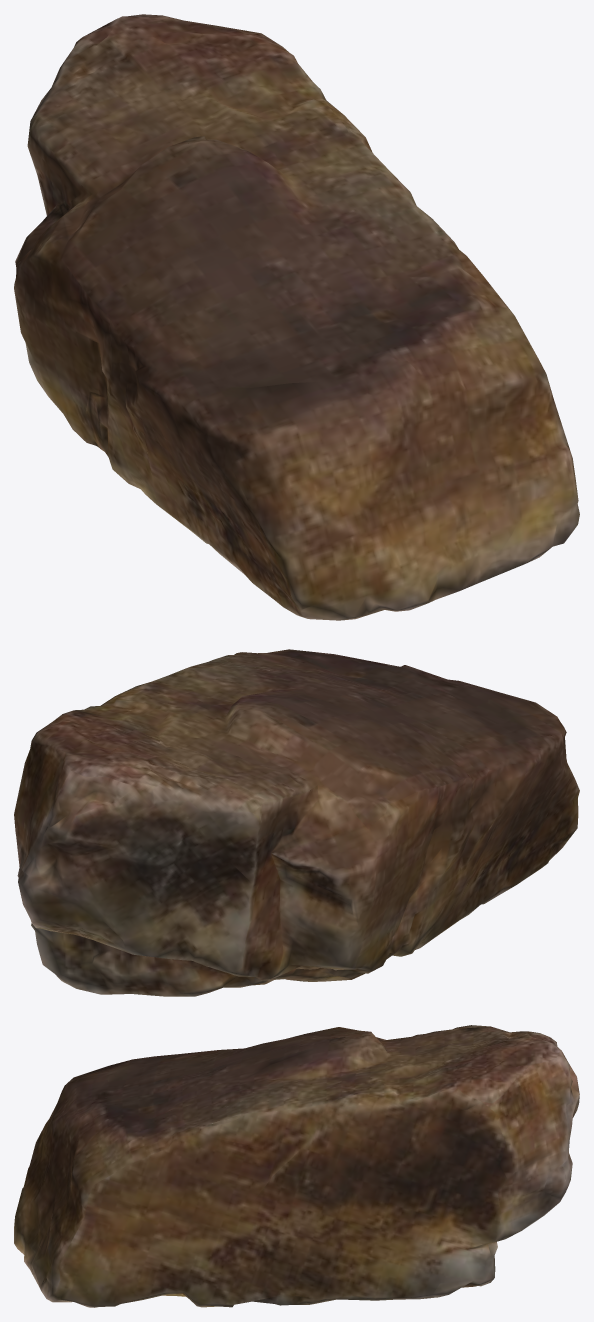
The model's file is rock.glb.
3 renders of one model, top to bottom at view 1: azimuth 30°, elevation 25°; view 2: azimuth 150°, elevation 25°; view 3: azimuth 270°, elevation 25°, orthographic. The views are drawn at different scales.
Visible parts, largest first — view 1: rock_07; view 2: rock_07; view 3: rock_07.
Boxes of the visible parts, x1=… form: rock_07: x1=14, y1=14, x2=579, y2=620; rock_07: x1=14, y1=649, x2=579, y2=996; rock_07: x1=14, y1=1025, x2=579, y2=1307.
Size of the model in its own units: 0.1681 by 0.1437 by 0.3199.
Materials: 1 (1 with a texture image).
